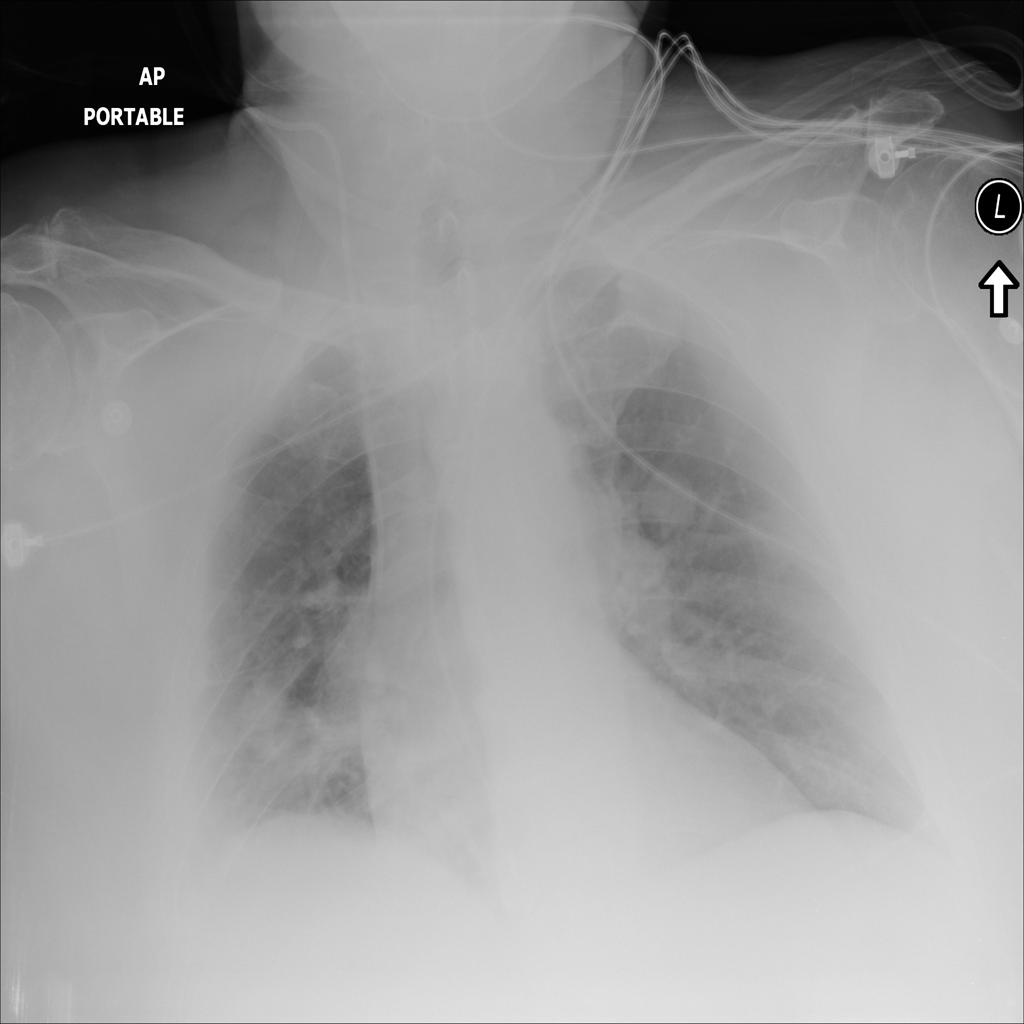nodule: (635, 455, 707, 543), (600, 524, 678, 603), (232, 673, 302, 759)
